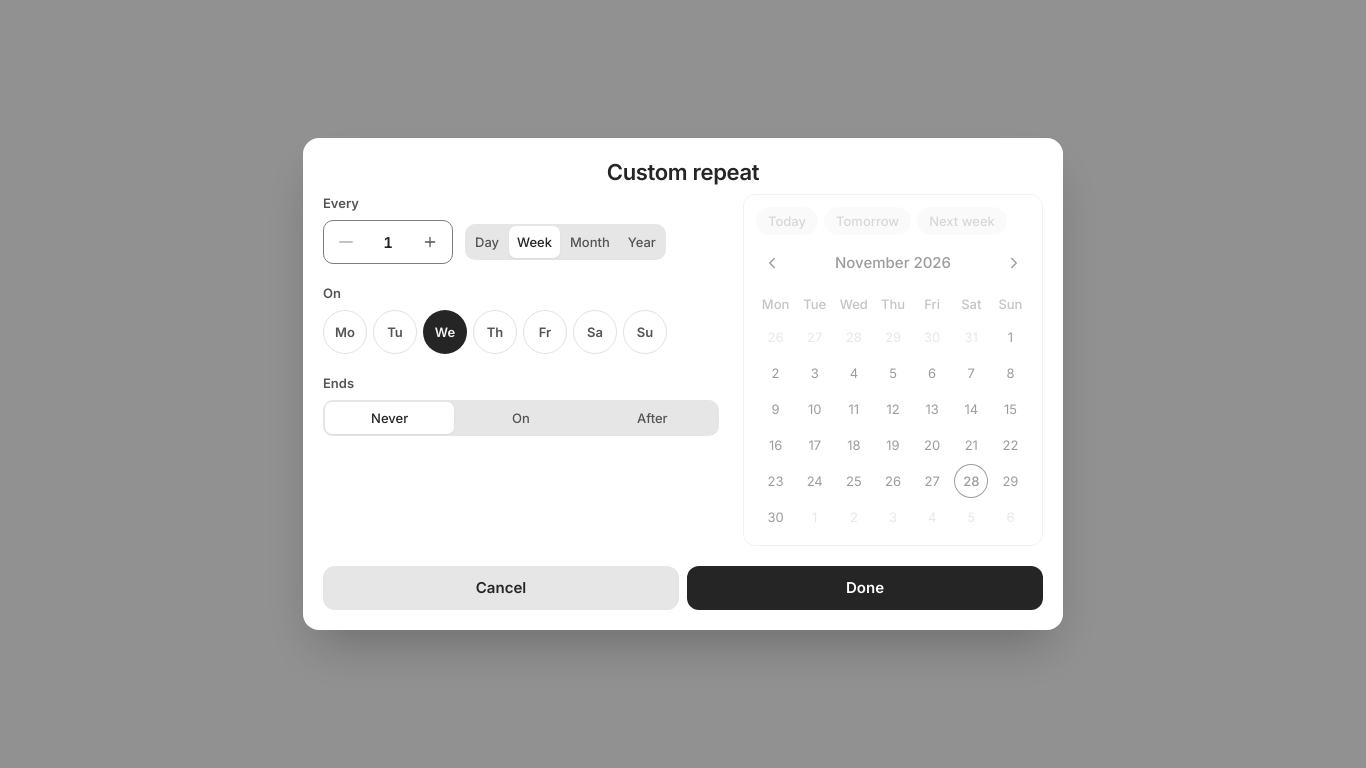
Custom repeat dialog (#154) › names the two monthly choices by what they mean
Click the radio button labelled "Month". click: {"x": 590, "y": 242}
box: [562,226,618,258]
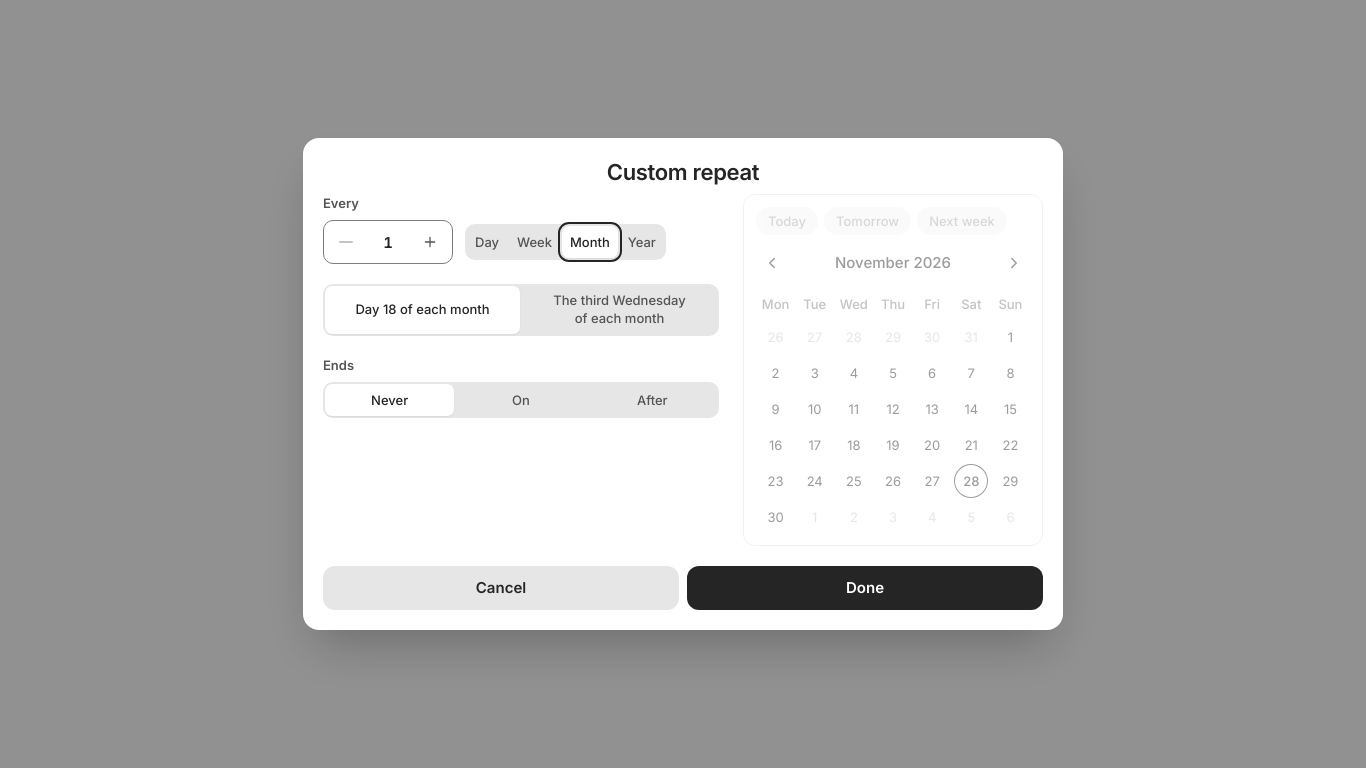
Now the radio button labelled "Day 18 of each month" is shown, box [325,286,520,334]
Now the radio button labelled "The third Wednesday of each month" is shown, box [522,286,717,334]
